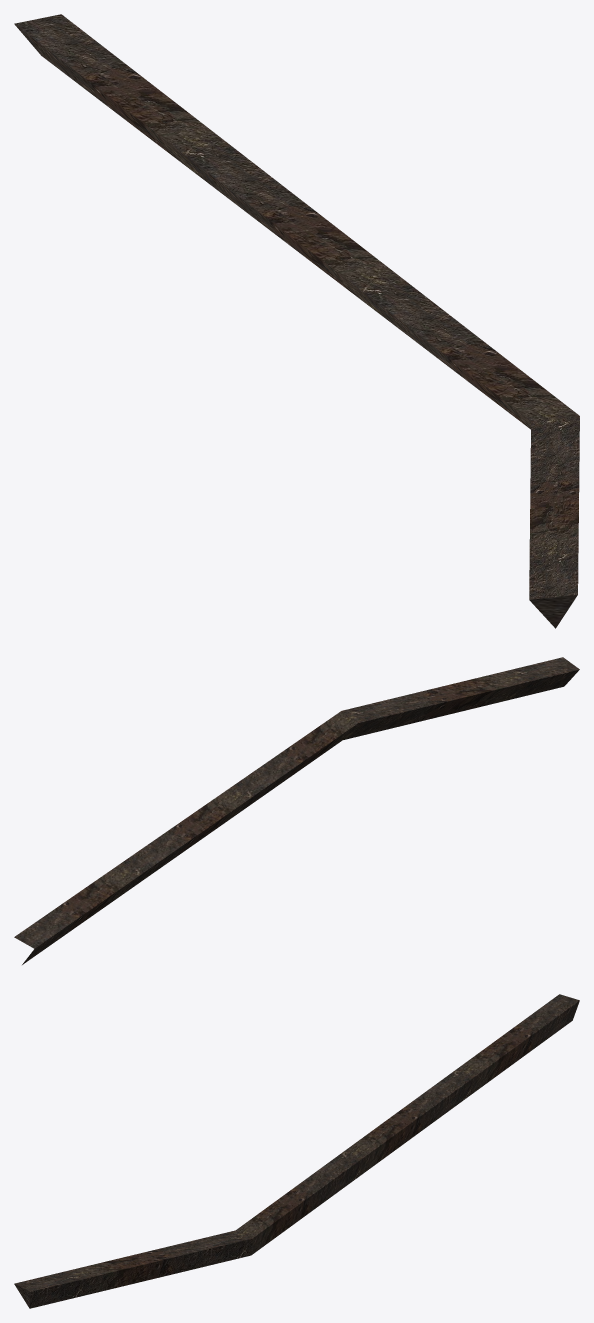
Rendered from prop_rubble_bar_sm_03.glb.
3 views of the same model, one above another, from view 1: azimuth 30°, elevation 25°; view 2: azimuth 150°, elevation 25°; view 3: azimuth 330°, elevation 25° (orthographic). The views are drawn at different scales.
Size of the model in its own units: 11.89 by 2.33 by 62.86.
Materials: 1 (1 with a texture image).
